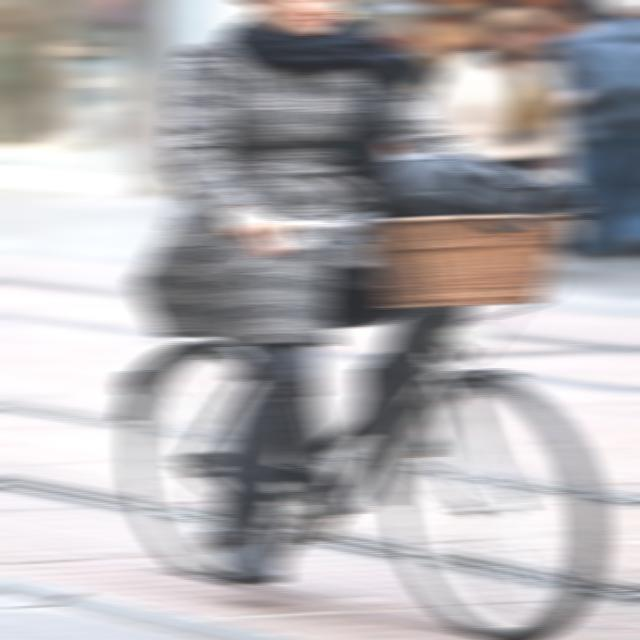Without Helmet: (216, 0, 382, 41)
